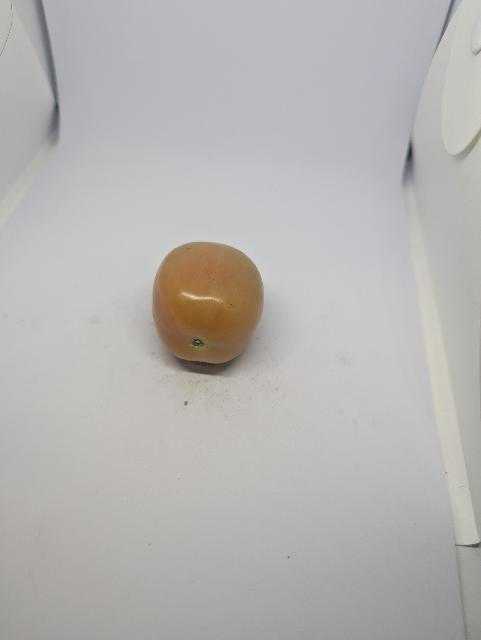turning: (141, 233, 276, 371)
